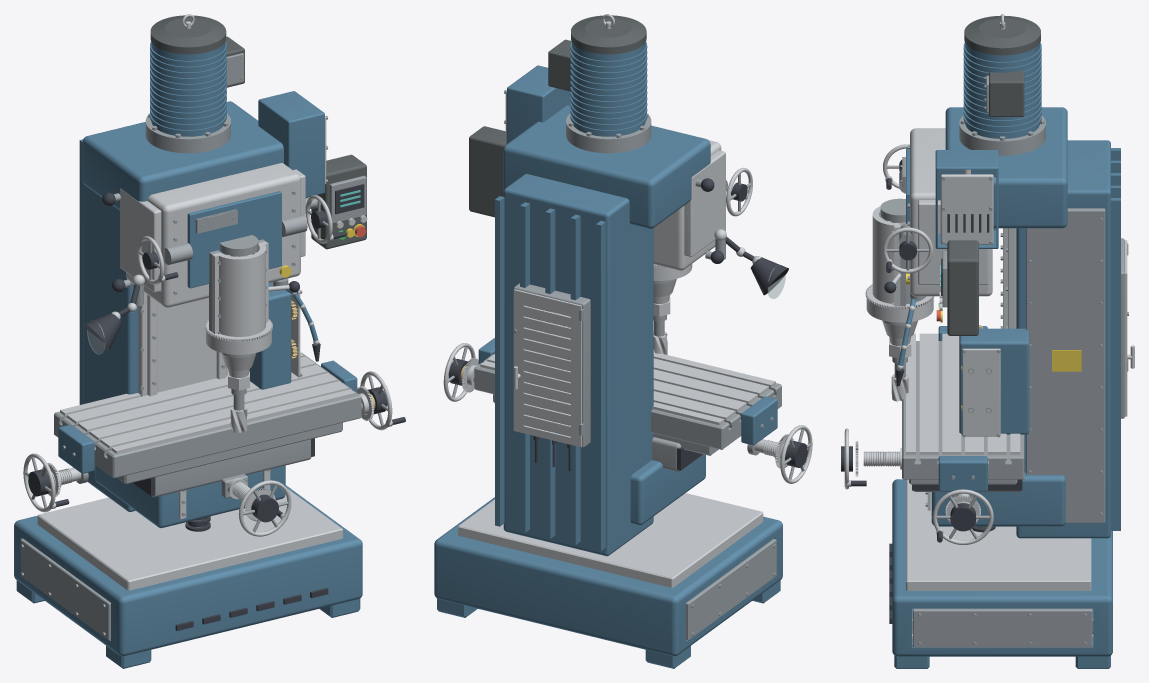
Rendered from fresadora-05.glb.
The picture shows the model from 3 angles, left to right: view 1: azimuth 30°, elevation 25°; view 2: azimuth 150°, elevation 25°; view 3: azimuth 270°, elevation 25°; orthographic projection.
Parts seen in each view (by area): view 1: base__1, base__2, mesa__3, cabecote__3, coluna__1, cabecote__1, mesa__2, coluna__2, cabecote__2, tampa_correias__1, joelho__1, tampa_fuso__1 (+24 smaller); view 2: coluna__1, base__1, cabecote__3, base__2, porta_armario__1, mesa__3, tampas_base__1, motor__1, coluna__81, coluna__85, mesa__2, joelho__1 (+17 smaller); view 3: tampa_coluna__1, base__2, base__1, coluna__1, cabecote__3, tampas_base__10, mesa__3, caixa_avanco__1, joelho__1, mesa__2, tampa_correias__2, tampa_caixa_avanco__1 (+25 smaller).
Boxes of the visible parts, left/top/right/bottom form: base__1: left=14, top=485, right=362, bottom=656; base__2: left=37, top=488, right=343, bottom=590; mesa__3: left=60, top=352, right=355, bottom=453; cabecote__3: left=82, top=101, right=283, bottom=210; coluna__1: left=83, top=183, right=138, bottom=511; cabecote__1: left=126, top=163, right=300, bottom=307; mesa__2: left=54, top=352, right=361, bottom=478; coluna__2: left=138, top=292, right=228, bottom=396; cabecote__2: left=187, top=191, right=281, bottom=288; tampa_correias__1: left=258, top=91, right=324, bottom=197; joelho__1: left=95, top=465, right=285, bottom=528; tampa_fuso__1: left=216, top=242, right=265, bottom=336; coluna__1: left=503, top=174, right=653, bottom=556; base__1: left=434, top=497, right=782, bottom=656; cabecote__3: left=503, top=105, right=710, bottom=228; base__2: left=458, top=493, right=763, bottom=587; porta_armario__1: left=513, top=289, right=581, bottom=447; mesa__3: left=480, top=352, right=775, bottom=425; tampas_base__1: left=686, top=539, right=776, bottom=640; motor__1: left=572, top=42, right=645, bottom=136; coluna__81: left=596, top=221, right=605, bottom=551; coluna__85: left=495, top=196, right=504, bottom=526; mesa__2: left=474, top=353, right=781, bottom=449; joelho__1: left=630, top=454, right=705, bottom=525; tampa_coluna__1: left=1026, top=208, right=1105, bottom=522; base__2: left=906, top=479, right=1091, bottom=590; base__1: left=892, top=479, right=1112, bottom=656; coluna__1: left=1016, top=140, right=1110, bottom=538; cabecote__3: left=945, top=107, right=1067, bottom=228; tampas_base__10: left=913, top=608, right=1092, bottom=647; mesa__3: left=906, top=333, right=1020, bottom=454; caixa_avanco__1: left=959, top=328, right=1029, bottom=434; joelho__1: left=931, top=472, right=1065, bottom=526; mesa__2: left=902, top=341, right=1024, bottom=479; tampa_correias__2: left=940, top=174, right=993, bottom=244; tampa_caixa_avanco__1: left=962, top=348, right=1000, bottom=436.
Size of the model in its own units: 2.13 by 3.34 by 1.49.
